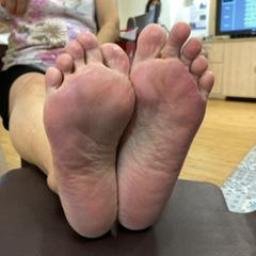Plantar View -Both Feet-: (18, 7, 225, 252)
